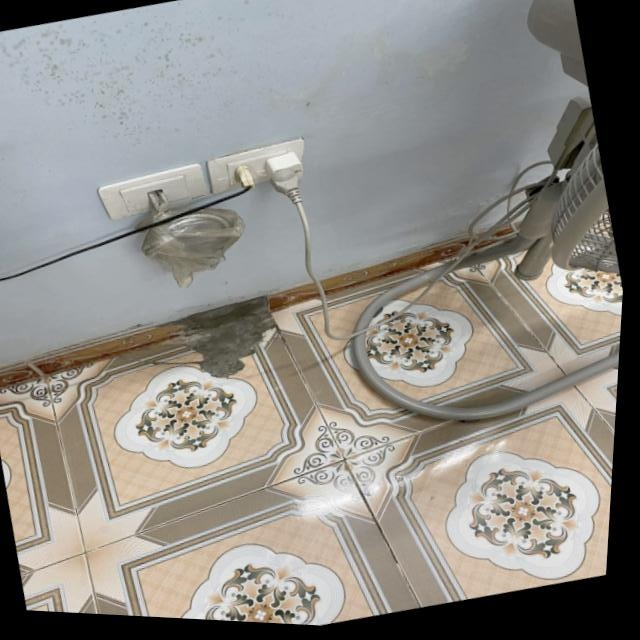outlet: (94, 156, 214, 227), (203, 132, 314, 201)
